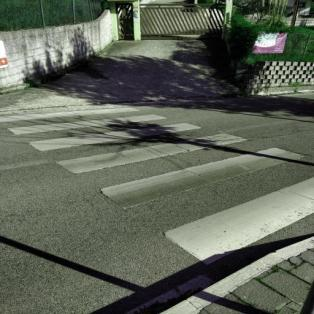Paso de Cebra: (55, 130, 309, 211)
